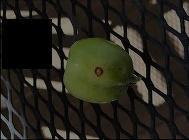rotten apple: (64, 38, 134, 105)
